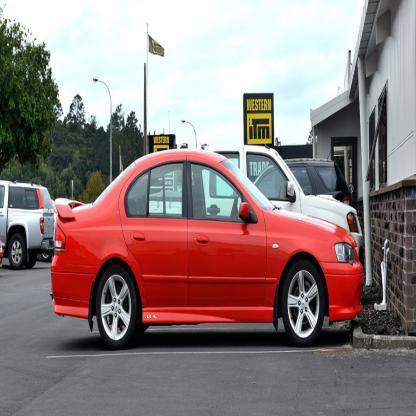Car: (0, 142, 364, 351)
Truck: (146, 139, 364, 276)
